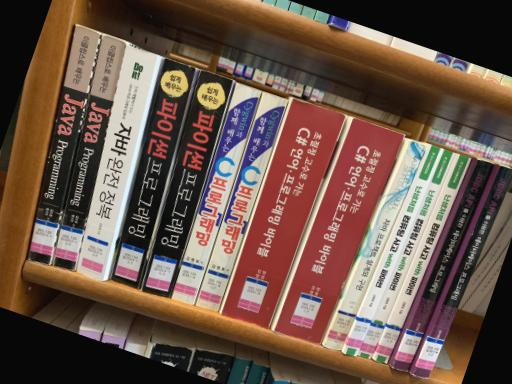book-spine: (272, 117, 403, 344), (220, 98, 346, 328), (321, 138, 426, 351), (390, 159, 493, 372), (343, 143, 443, 357), (412, 164, 512, 378), (372, 154, 472, 364), (357, 149, 456, 360), (141, 70, 232, 298), (195, 91, 288, 311), (171, 82, 261, 305), (109, 58, 195, 289), (76, 46, 156, 281), (53, 34, 127, 271), (27, 24, 98, 265)
